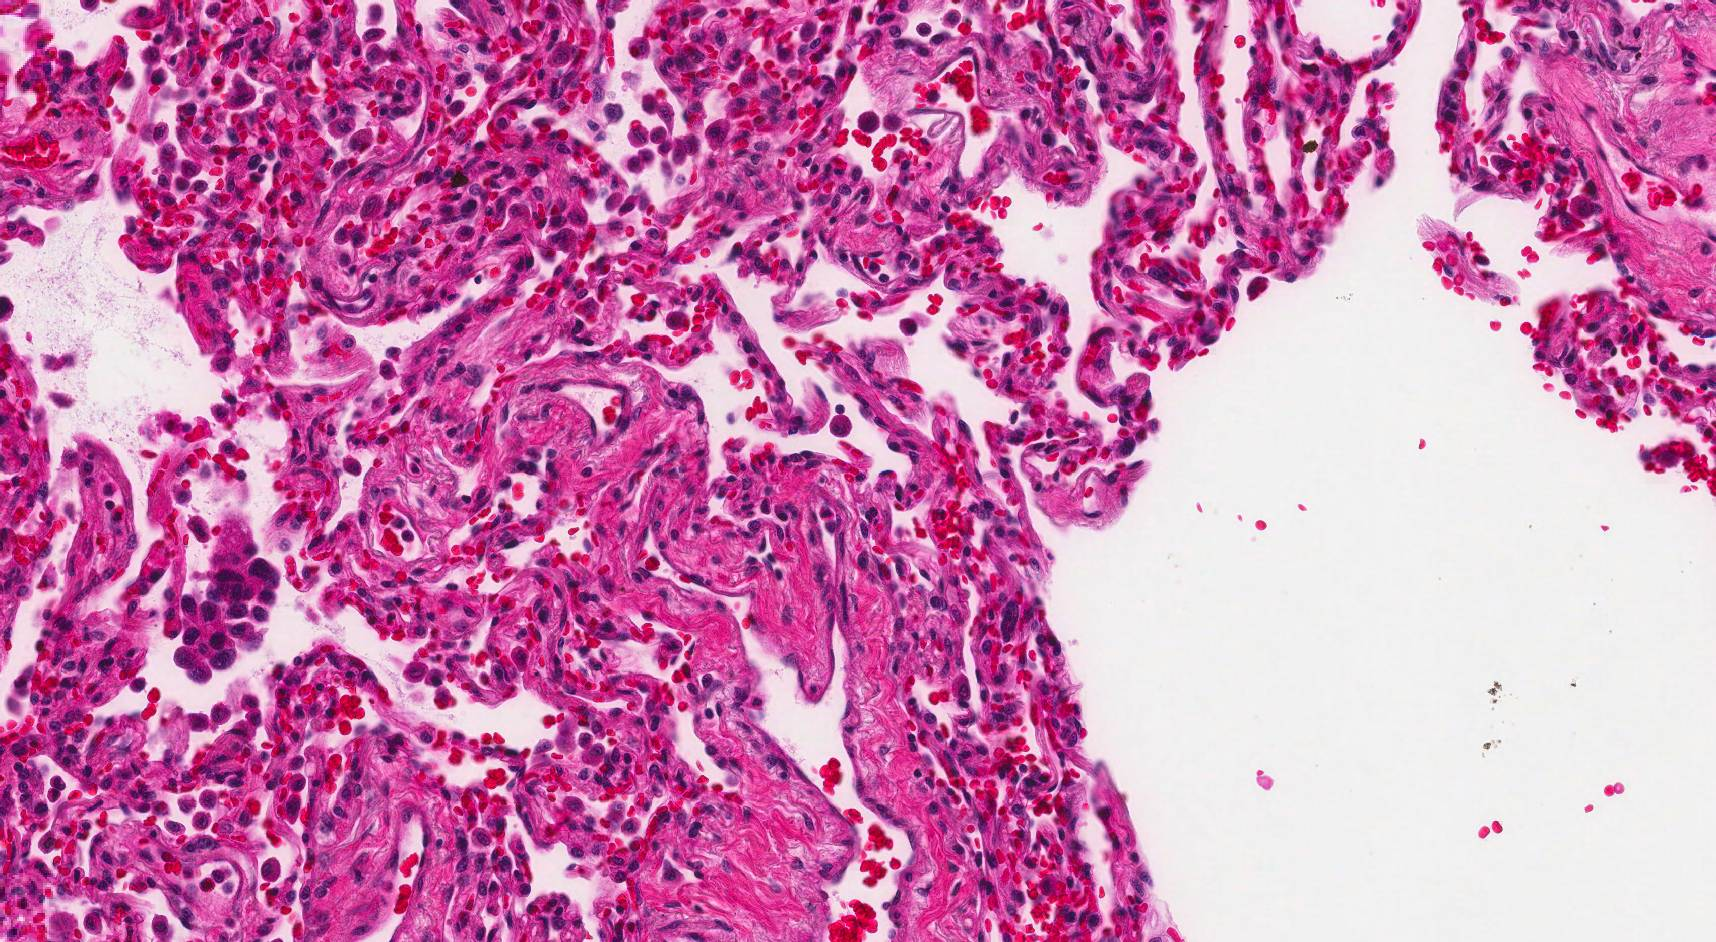stas: (171, 556, 278, 684)
